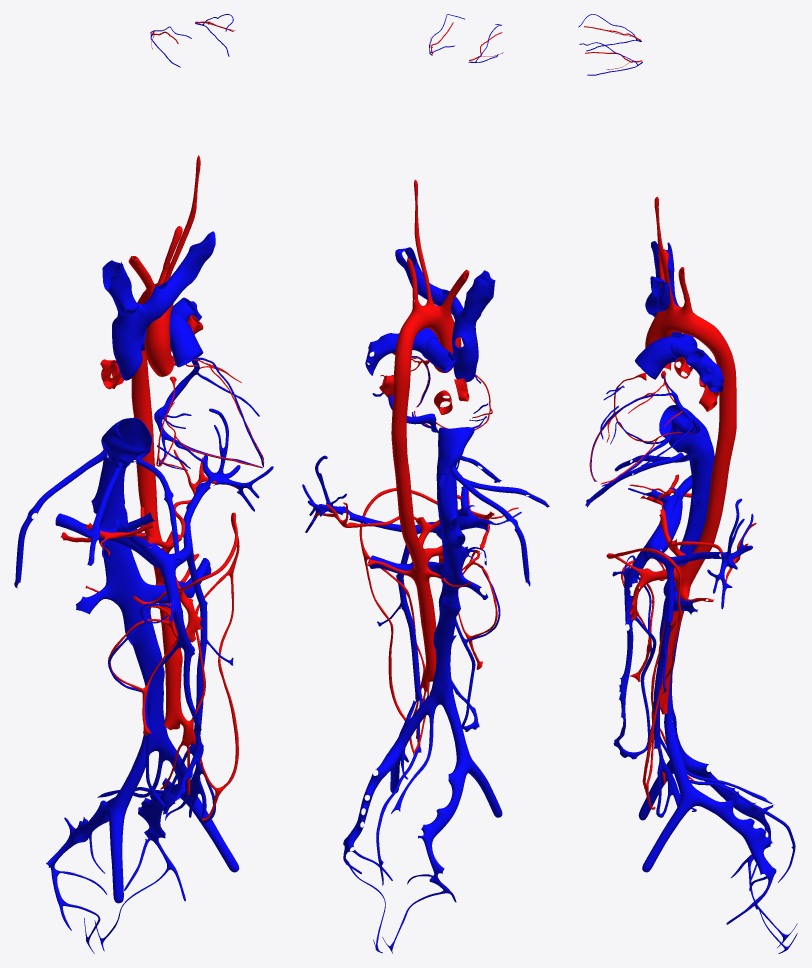
Rendered from VH_M_Blood_Vasculature.glb.
The picture shows the model from 3 angles, left to right: view 1: azimuth 30°, elevation 25°; view 2: azimuth 150°, elevation 25°; view 3: azimuth 270°, elevation 25°; orthographic projection. The views are drawn at different scales.
Bounding box in the file's own units: 0.2362 × 0.8718 × 0.1874.
